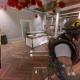Character: (43, 18, 80, 80), (44, 26, 48, 34)
Head: (63, 18, 80, 40), (46, 26, 48, 28)
